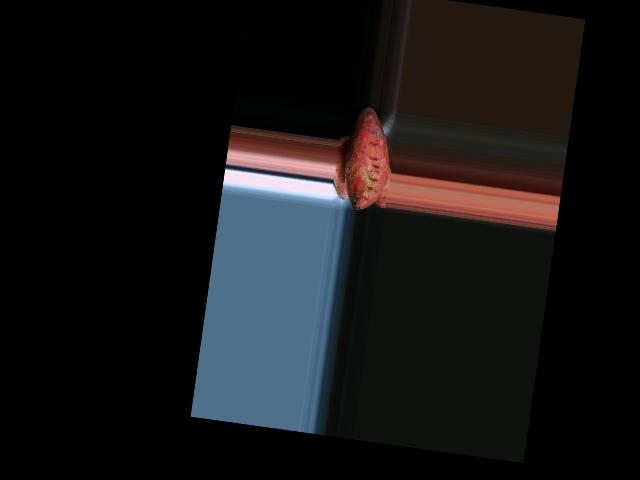sweet_potato: (343, 106, 393, 213)
